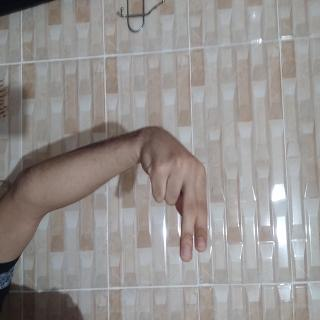AYN: (89, 140, 201, 248)
